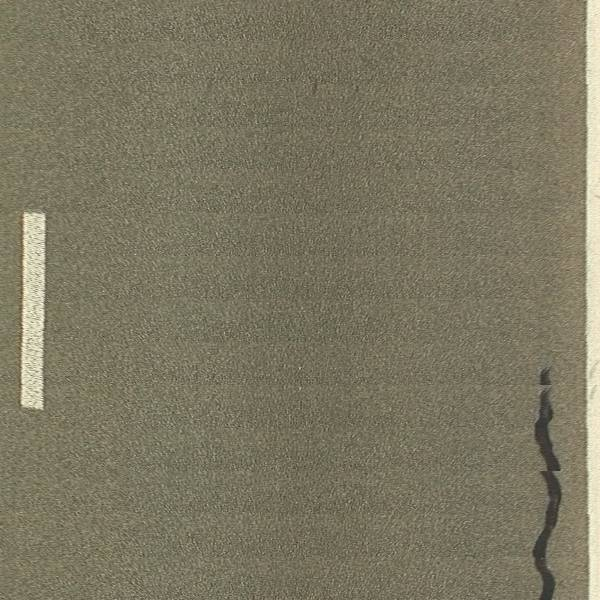road_damage: (524, 367, 567, 600)
